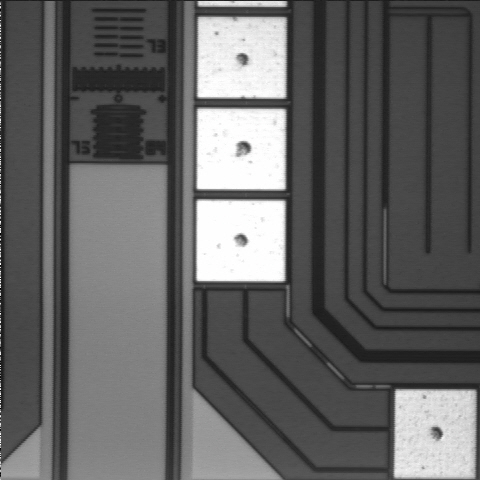pad: (197, 108, 286, 190), (197, 17, 286, 98), (196, 200, 285, 281)
